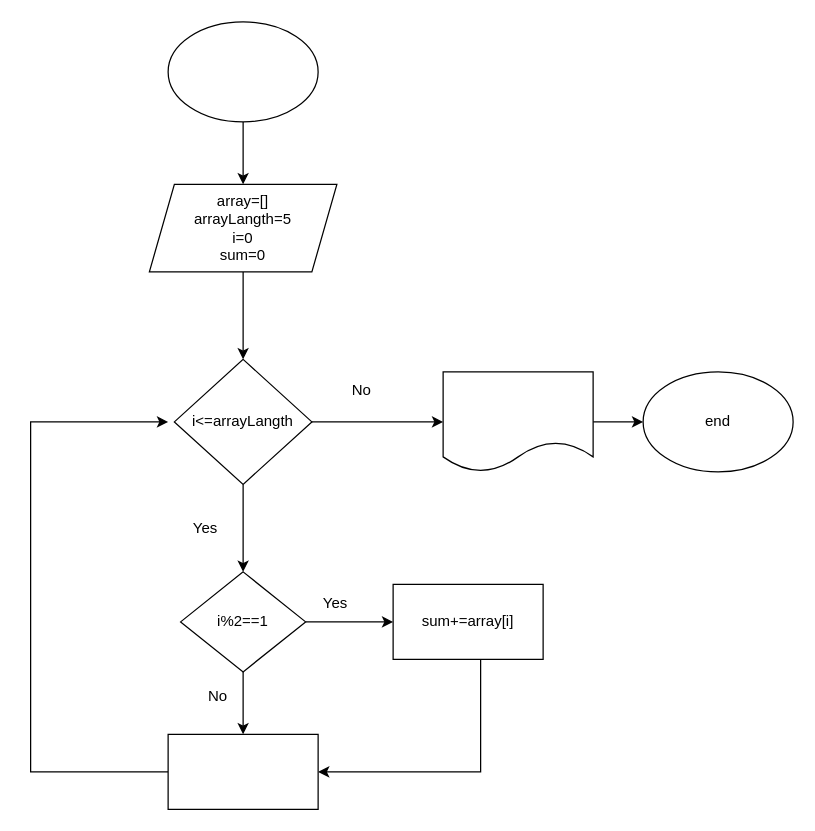
This 815x831 diagram has some shape labels left out. Here are the shapes that lost their labels. From the top down, the centre of each, then its label:
At (242,71): "Start".
At (517,421): "sum".
At (242,771): "i+=1".
